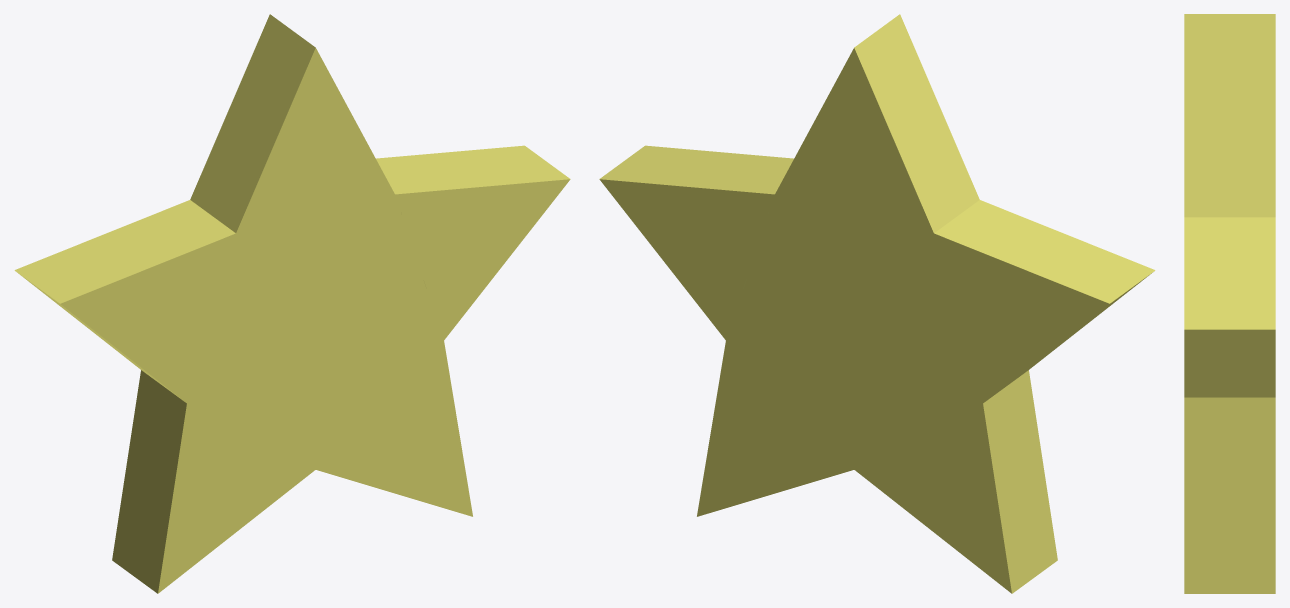
Rendered from star.glb.
The picture shows the model from 3 angles, left to right: view 1: azimuth 30°, elevation 25°; view 2: azimuth 150°, elevation 25°; view 3: azimuth 270°, elevation 25°; orthographic projection.
Visible parts, largest first — view 1: Plane; view 2: Plane; view 3: Plane.
Part boxes in pixels (x1,y1,x2,y2): Plane: (14, 14, 570, 593); Plane: (599, 14, 1155, 593); Plane: (1184, 14, 1275, 593).
Size of the model in its own units: 6.42 by 6.11 by 1.
